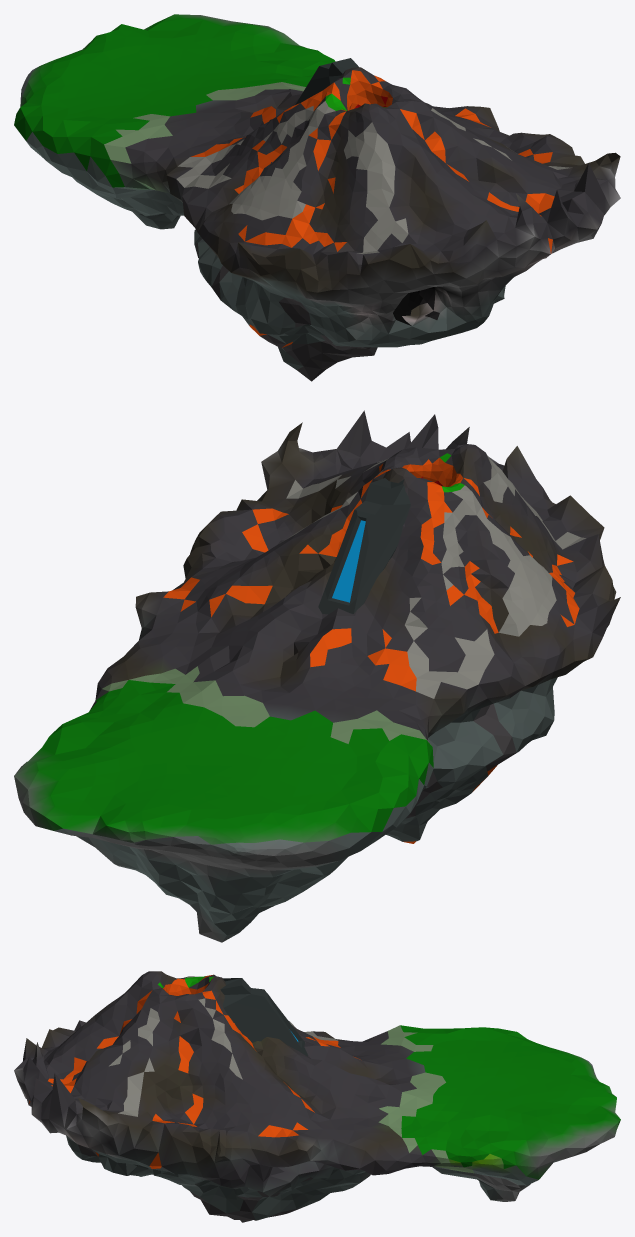
File: Mount.fbx
3 renders of one model, top to bottom at view 1: azimuth 30°, elevation 25°; view 2: azimuth 150°, elevation 25°; view 3: azimuth 270°, elevation 25°, orthographic. The views are drawn at different scales.
Parts seen in each view (by area): view 1: Cave, Building; view 2: Cave, Building; view 3: Cave, Building.
Part boxes in pixels (x1,y1,x2,y2): Cave: [14, 14, 620, 381]; Building: [295, 58, 358, 104]; Cave: [14, 410, 620, 942]; Building: [318, 478, 410, 614]; Cave: [14, 971, 620, 1222]; Building: [220, 978, 307, 1056].
Bounding box in the file's own units: 3562 × 3081 × 6616.
